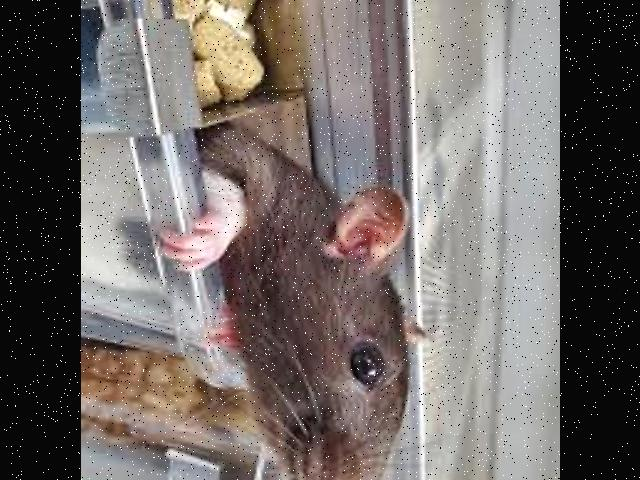Tikus: (153, 122, 430, 480)
